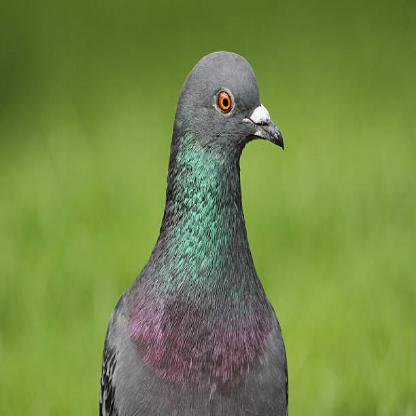Rock Pigeon: (79, 54, 285, 416)
